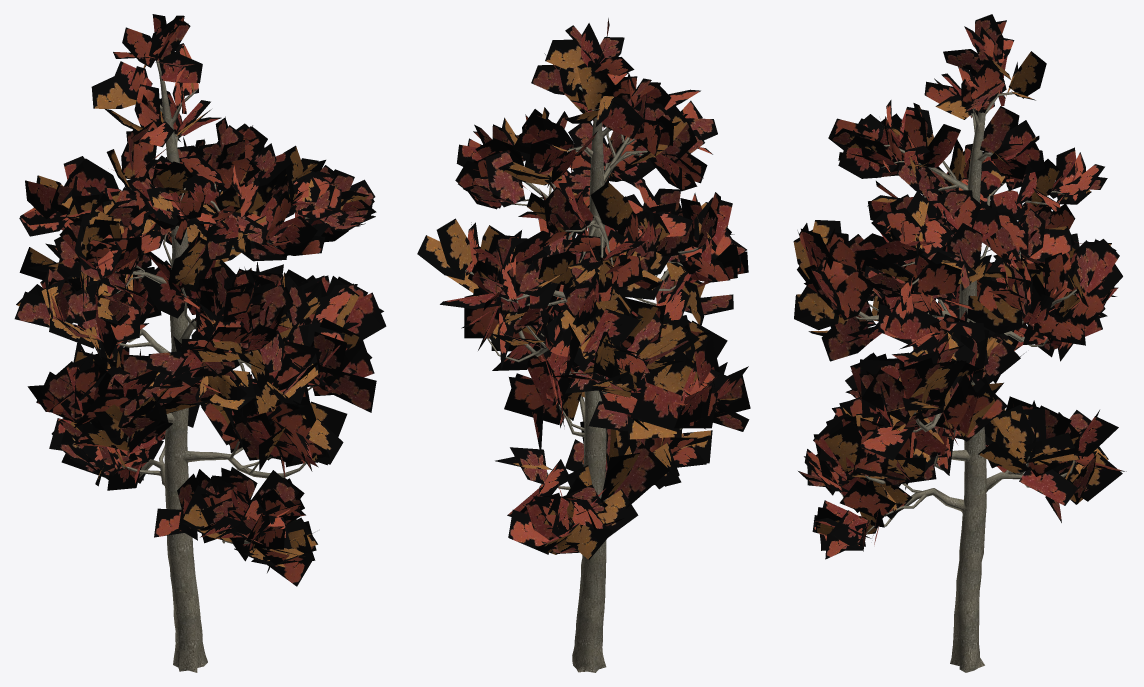
File: Oak_White_Desktop_Field_3_001_Red_cef325.glb
The picture shows the model from 3 angles, left to right: view 1: azimuth 30°, elevation 25°; view 2: azimuth 150°, elevation 25°; view 3: azimuth 270°, elevation 25°; orthographic projection. The views are drawn at different scales.
Bounding box in the file's own units: 5.99 × 11.8 × 5.85.
Materials: 2 (2 with a texture image).
